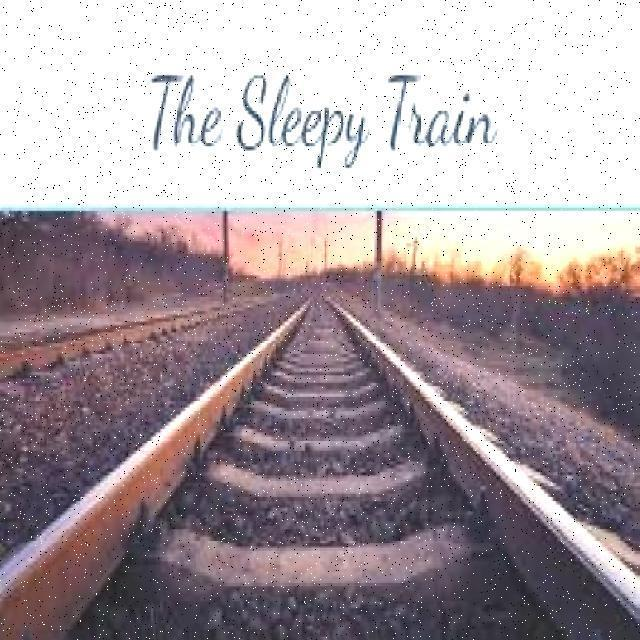rail: (2, 270, 639, 639)
